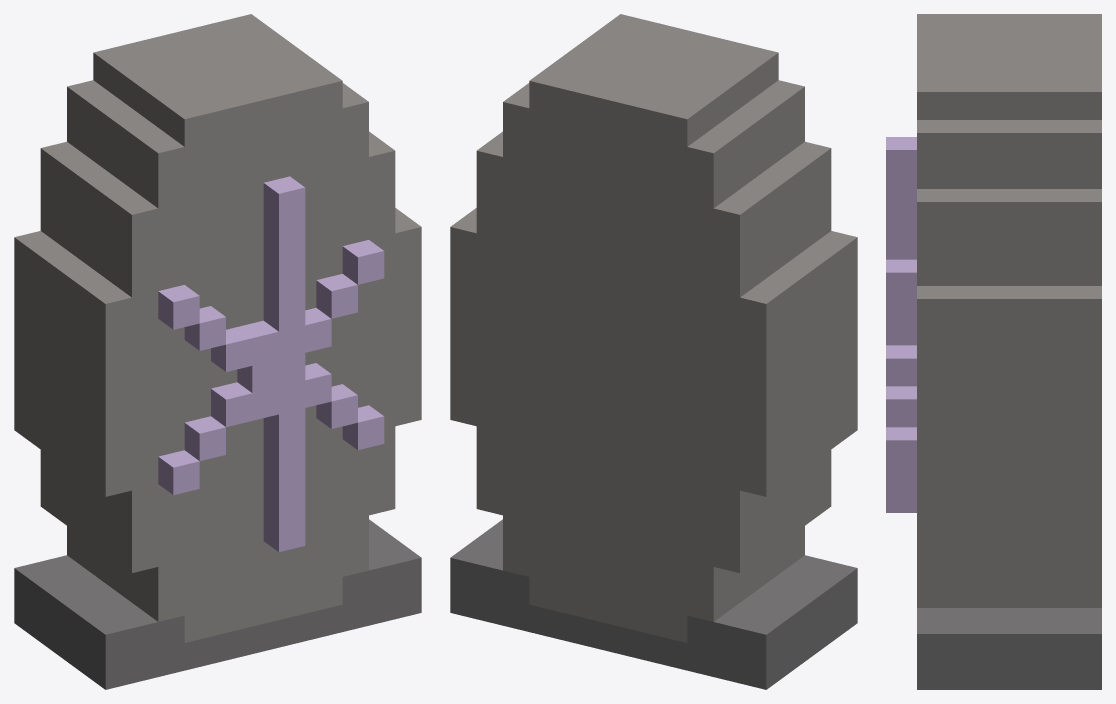
The model's file is rune_echoes.glb.
3 renders of one model, left to right at view 1: azimuth 30°, elevation 25°; view 2: azimuth 150°, elevation 25°; view 3: azimuth 270°, elevation 25°, orthographic.
Visible parts, largest first — view 1: rune_echoes; view 2: rune_echoes; view 3: rune_echoes.
Part boxes in pixels (x1,y1,x2,y2): rune_echoes: (14, 14, 421, 689); rune_echoes: (450, 14, 857, 689); rune_echoes: (886, 14, 1101, 689).
Bounding box in the file's own units: 0.144 × 0.24 × 0.084.
